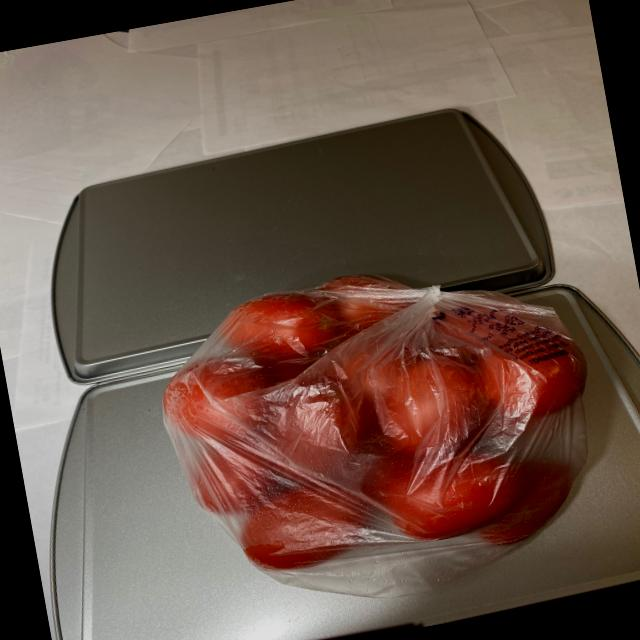tomato: (148, 236, 617, 604)
